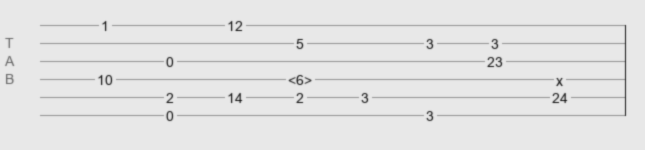0: (166, 108, 174, 118), (166, 54, 174, 64)
1: (101, 18, 109, 28)
10: (97, 72, 113, 82)
12: (227, 18, 243, 28)
14: (227, 90, 243, 100)
2: (166, 90, 174, 100), (296, 90, 304, 100)
23: (487, 54, 503, 64)
24: (552, 90, 568, 100)
3: (361, 90, 369, 100), (426, 108, 434, 118), (426, 36, 434, 46), (491, 36, 499, 46)
5: (296, 36, 304, 46)
harmonic: (288, 72, 312, 82)
x: (556, 73, 563, 81)
